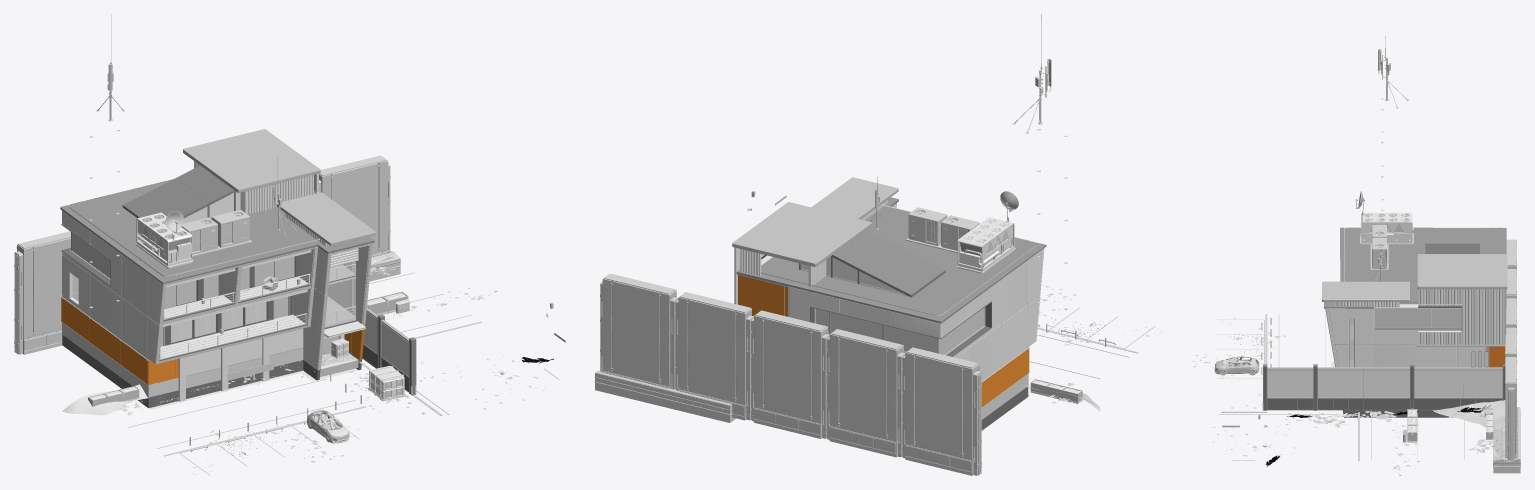
File: cell_160_115.fbx
The picture shows the model from 3 angles, left to right: view 1: azimuth 30°, elevation 25°; view 2: azimuth 150°, elevation 25°; view 3: azimuth 270°, elevation 25°; orthographic projection. The views are drawn at different scales.
Parts seen in each view (by area): view 1: SM_H_Building_FutureTech_Dormitory_02_ExterWall_01.mo.002, SM_H_Building_FutureTech_Dormitory_02_Ornament_01.mo, SM_H_Fence_Metal_1024x768_01.mo, SM_H_Fence_Metal_1024x768_01.mo.016, SM_H_Building_FutureTech_Dormitory_02_ExterWall_01C.mo.004, SM_H_Building_FutureTech_Dormitory_02_Ornament_02.mo.001, SM_H_FutureTech_Electrical_BigConditioners_01.mo.007, SM_H_Building_FutureTech_Dormitory_02_InterWall_04B.mo, SM_I_Fence_WoodWall_512x512_01.mo.018, SM_H_FutureTech_Furniture_AirConditioning_01.mo, SM_H_Industrial_Container_SupplyBox_01.mo.511, SM_H_FutureTech_Furniture_AirConditioning_01.mo.005 (+7 smaller); view 2: SM_H_Building_FutureTech_Dormitory_02_ExterWall_01.mo.002, SM_H_Fence_Metal_1024x768_01.mo, SM_H_Fence_Metal_1024x768_01.mo.018, SM_H_Fence_Metal_1024x768_01.mo.019, SM_H_Fence_Metal_1024x768_01.mo.017, SM_H_Fence_Metal_1024x768_01.mo.016, SM_H_Building_FutureTech_Dormitory_02_Ornament_01.mo, SM_H_FutureTech_Electrical_BigConditioners_01.mo.007, SM_H_Building_FutureTech_Dormitory_02_Ornament_02.mo.001, SM_H_Building_FutureTech_Dormitory_02_ExterWall_01D.mo.002, SM_H_Fence_Metal_1024x768_02.mo.264, SM_H_Building_FutureTech_Dormitory_02_ExterWall_02.mo (+6 smaller); view 3: SM_H_Building_FutureTech_Dormitory_02_ExterWall_01.mo.002, SM_H_Building_FutureTech_Dormitory_02_Ornament_01.mo, SM_H_Building_FutureTech_Dormitory_02_Ornament_02.mo.001, SM_I_Fence_WoodWall_512x512_01.mo.018, SM_I_Fence_WoodWall_512x512_01.mo.021, SM_I_Fence_WoodWall_512x512_01.mo.022, SM_I_Fence_WoodWall_512x512_01.mo.020, SM_H_Building_FutureTech_Dormitory_02_ExterWall_01B.mo.004, SM_I_Fence_WoodWall_512x512_01.mo.019, SM_H_FutureTech_Electrical_BigConditioners_01.mo.007, SM_H_Fence_Metal_1024x768_01.mo.016, SM_I_Terrain_Road_Desert_Decal_Sand_06.mo.009 (+7 smaller).
Boxes of the visible parts, left/top/right/bottom form: SM_H_Building_FutureTech_Dormitory_02_ExterWall_01.mo.002: left=60, top=165, right=374, bottom=409; SM_H_Building_FutureTech_Dormitory_02_Ornament_01.mo: left=183, top=129, right=320, bottom=213; SM_H_Fence_Metal_1024x768_01.mo: left=14, top=231, right=78, bottom=354; SM_H_Fence_Metal_1024x768_01.mo.016: left=319, top=155, right=390, bottom=256; SM_H_Building_FutureTech_Dormitory_02_ExterWall_01C.mo.004: left=164, top=256, right=294, bottom=342; SM_H_Building_FutureTech_Dormitory_02_Ornament_02.mo.001: left=276, top=192, right=375, bottom=246; SM_H_FutureTech_Electrical_BigConditioners_01.mo.007: left=135, top=212, right=193, bottom=268; SM_H_Building_FutureTech_Dormitory_02_InterWall_04B.mo: left=325, top=261, right=355, bottom=326; SM_I_Fence_WoodWall_512x512_01.mo.018: left=381, top=319, right=408, bottom=392; SM_H_FutureTech_Furniture_AirConditioning_01.mo: left=211, top=209, right=252, bottom=249; SM_H_Industrial_Container_SupplyBox_01.mo.511: left=367, top=365, right=405, bottom=401; SM_H_FutureTech_Furniture_AirConditioning_01.mo.005: left=181, top=217, right=220, bottom=256; SM_H_Building_FutureTech_Dormitory_02_ExterWall_01.mo.002: left=736, top=197, right=1046, bottom=430; SM_H_Fence_Metal_1024x768_01.mo: left=903, top=347, right=981, bottom=475; SM_H_Fence_Metal_1024x768_01.mo.018: left=751, top=310, right=829, bottom=438; SM_H_Fence_Metal_1024x768_01.mo.019: left=827, top=329, right=905, bottom=457; SM_H_Fence_Metal_1024x768_01.mo.017: left=675, top=292, right=753, bottom=420; SM_H_Fence_Metal_1024x768_01.mo.016: left=600, top=273, right=678, bottom=389; SM_H_Building_FutureTech_Dormitory_02_Ornament_01.mo: left=732, top=202, right=871, bottom=304; SM_H_FutureTech_Electrical_BigConditioners_01.mo.007: left=956, top=217, right=1015, bottom=273; SM_H_Building_FutureTech_Dormitory_02_Ornament_02.mo.001: left=811, top=177, right=898, bottom=220; SM_H_Building_FutureTech_Dormitory_02_ExterWall_01D.mo.002: left=816, top=308, right=936, bottom=352; SM_H_Fence_Metal_1024x768_02.mo.264: left=594, top=370, right=672, bottom=408; SM_H_Building_FutureTech_Dormitory_02_ExterWall_02.mo: left=738, top=275, right=784, bottom=315; SM_H_Building_FutureTech_Dormitory_02_ExterWall_01.mo.002: left=1324, top=227, right=1506, bottom=417; SM_H_Building_FutureTech_Dormitory_02_Ornament_01.mo: left=1417, top=254, right=1507, bottom=346; SM_H_Building_FutureTech_Dormitory_02_Ornament_02.mo.001: left=1322, top=281, right=1410, bottom=307; SM_I_Fence_WoodWall_512x512_01.mo.018: left=1267, top=367, right=1313, bottom=410; SM_I_Fence_WoodWall_512x512_01.mo.021: left=1317, top=367, right=1363, bottom=410; SM_I_Fence_WoodWall_512x512_01.mo.022: left=1364, top=367, right=1409, bottom=410; SM_I_Fence_WoodWall_512x512_01.mo.020: left=1414, top=367, right=1460, bottom=410; SM_H_Building_FutureTech_Dormitory_02_ExterWall_01B.mo.004: left=1375, top=308, right=1487, bottom=366; SM_I_Fence_WoodWall_512x512_01.mo.019: left=1460, top=367, right=1502, bottom=405; SM_H_FutureTech_Electrical_BigConditioners_01.mo.007: left=1360, top=212, right=1413, bottom=244; SM_H_Fence_Metal_1024x768_01.mo.016: left=1505, top=357, right=1517, bottom=459; SM_I_Terrain_Road_Desert_Decal_Sand_06.mo.009: left=1433, top=400, right=1505, bottom=429.
Bounding box in the file's own units: 46.23 × 38.98 × 36.39.
